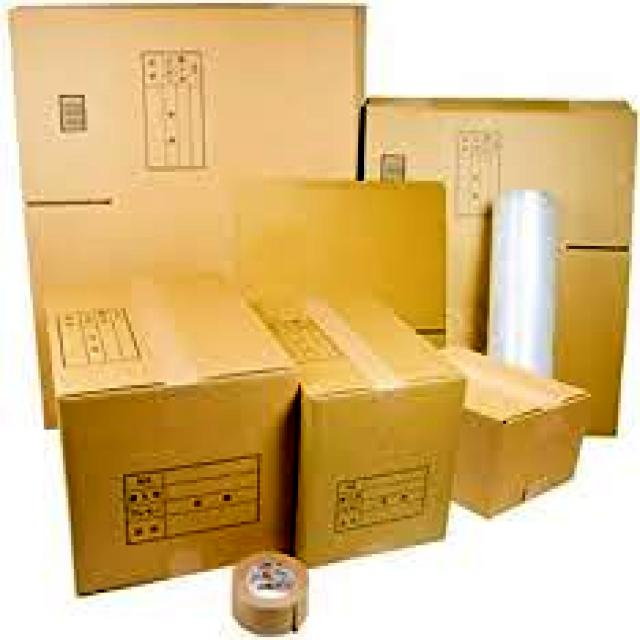Cardboard: (0, 6, 638, 602), (41, 271, 299, 597)
